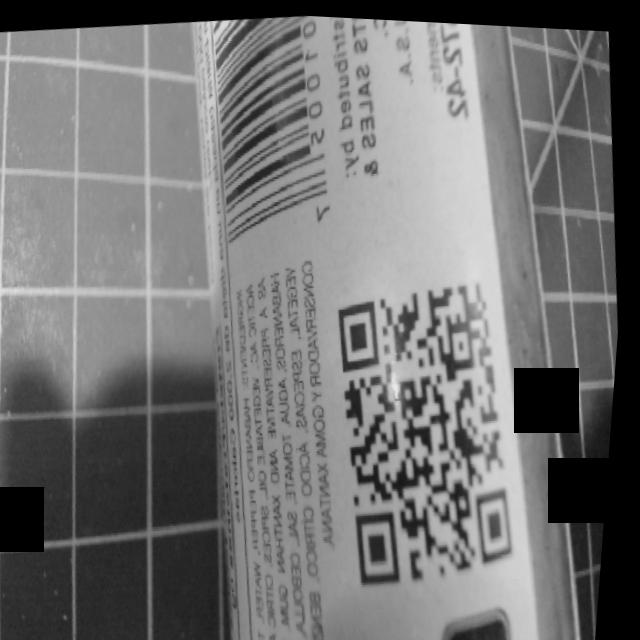QR_CODE: (310, 255, 543, 616)
